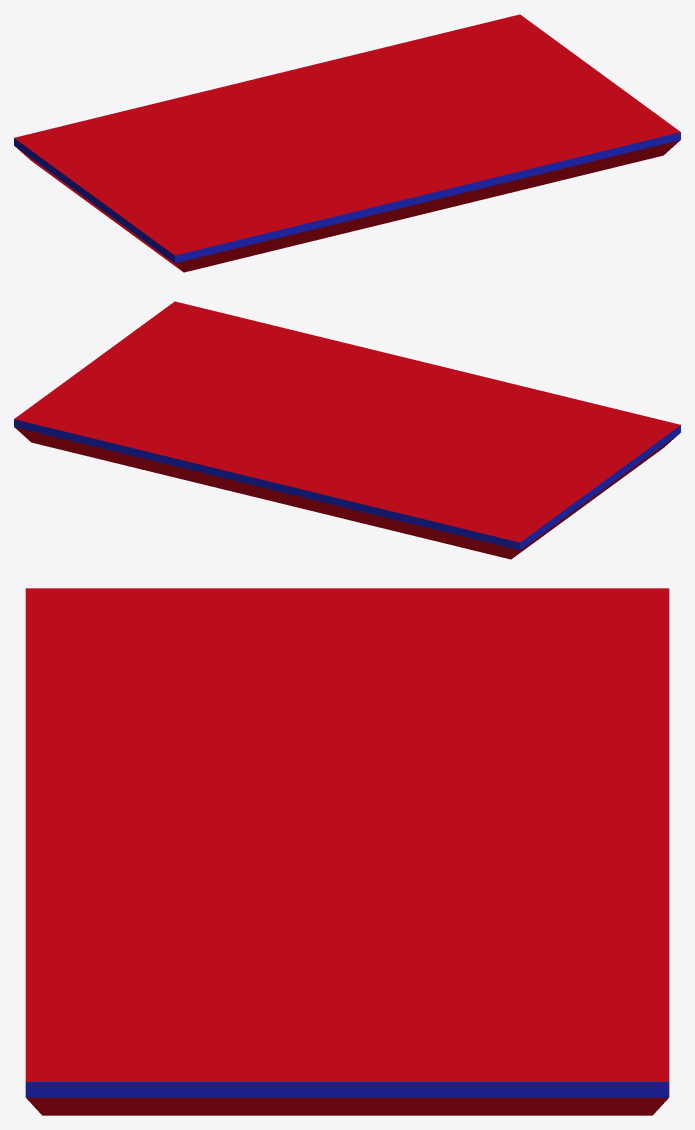
Rendered from light_off.gltf.
The picture shows the model from 3 angles, top to bottom: view 1: azimuth 30°, elevation 25°; view 2: azimuth 150°, elevation 25°; view 3: azimuth 270°, elevation 25°; orthographic projection. The views are drawn at different scales.
Parts seen in each view (by area): view 1: Plane.009; view 2: Plane.009; view 3: Plane.009.
Part boxes in pixels (bbox=[...]): Plane.009: bbox=[14, 14, 680, 272]; Plane.009: bbox=[14, 301, 680, 559]; Plane.009: bbox=[25, 588, 669, 1115].
Size of the model in its own units: 1.78 by 0.0782 by 0.98.
